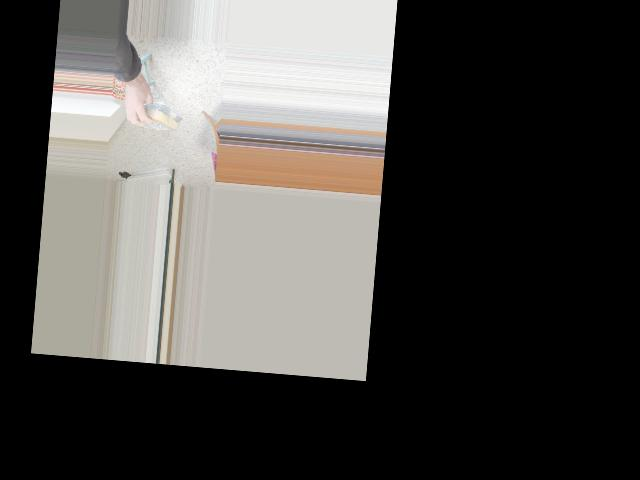cheese: (135, 106, 183, 132)
